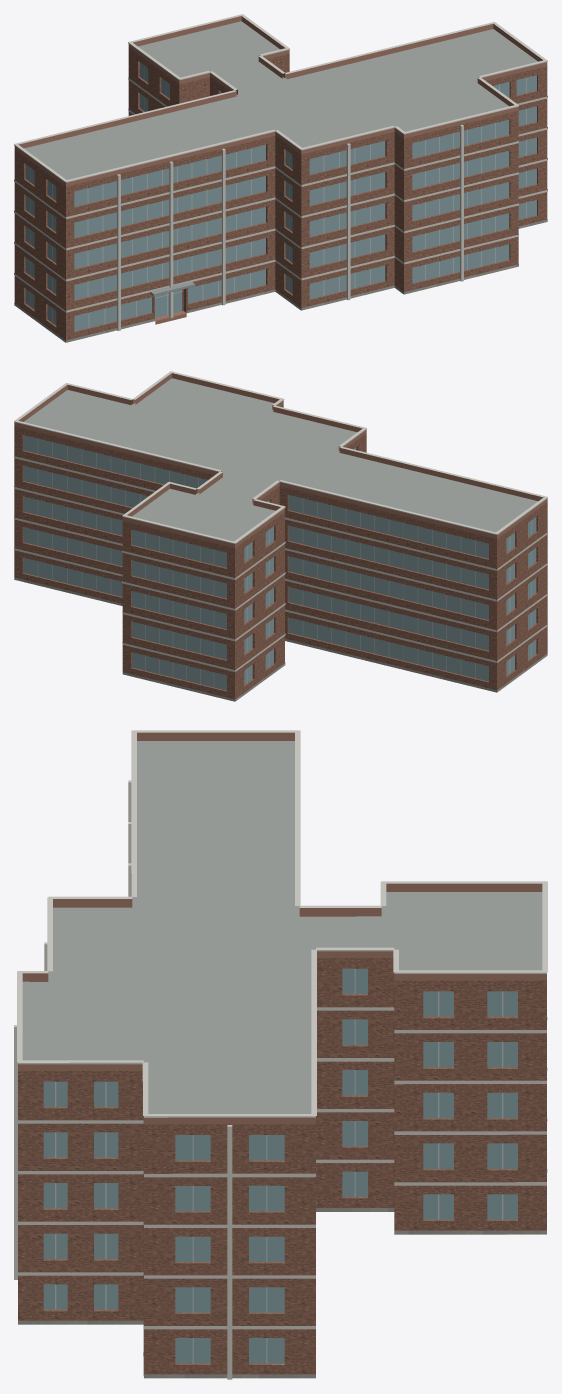
3 views of the same model, one above another, from view 1: azimuth 30°, elevation 25°; view 2: azimuth 150°, elevation 25°; view 3: azimuth 270°, elevation 25° (orthographic). The views are drawn at different scales.
Parts seen in each view (by area): view 1: w6__wall, w6__roof, w6__glass, w6__trim, w6__parapet, w6__frame, w6__base; view 2: w6__wall, w6__glass, w6__roof, w6__trim, w6__parapet, w6__frame, w6__base; view 3: w6__wall, w6__roof, w6__glass, w6__trim, w6__parapet, w6__base, w6__frame.
Boxes of the visible parts, bbox=[...] form: w6__wall: bbox=[14, 48, 547, 342]; w6__roof: bbox=[24, 21, 537, 310]; w6__glass: bbox=[25, 62, 536, 331]; w6__trim: bbox=[14, 14, 547, 330]; w6__parapet: bbox=[14, 16, 547, 186]; w6__frame: bbox=[30, 66, 526, 327]; w6__base: bbox=[14, 219, 547, 342]; w6__wall: bbox=[14, 404, 547, 701]; w6__glass: bbox=[23, 435, 536, 690]; w6__roof: bbox=[24, 378, 537, 541]; w6__trim: bbox=[14, 371, 547, 671]; w6__parapet: bbox=[14, 373, 547, 547]; w6__frame: bbox=[37, 438, 531, 687]; w6__base: bbox=[14, 577, 547, 701]; w6__wall: bbox=[18, 958, 546, 1375]; w6__roof: bbox=[22, 741, 546, 1364]; w6__glass: bbox=[43, 968, 517, 1363]; w6__trim: bbox=[14, 730, 547, 1379]; w6__parapet: bbox=[18, 732, 546, 1124]; w6__base: bbox=[18, 1208, 546, 1378]; w6__frame: bbox=[55, 968, 503, 1363].
Size of the model in its own units: 58.99 by 19 by 34.36.
10 materials, 2 textured.
